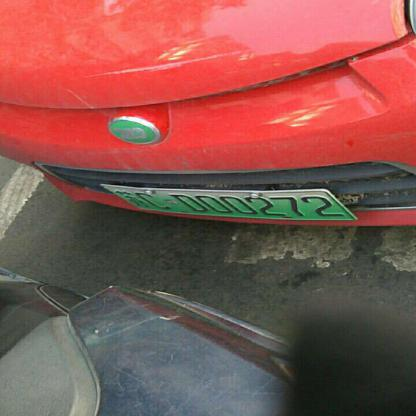lp: (100, 183, 357, 219)
